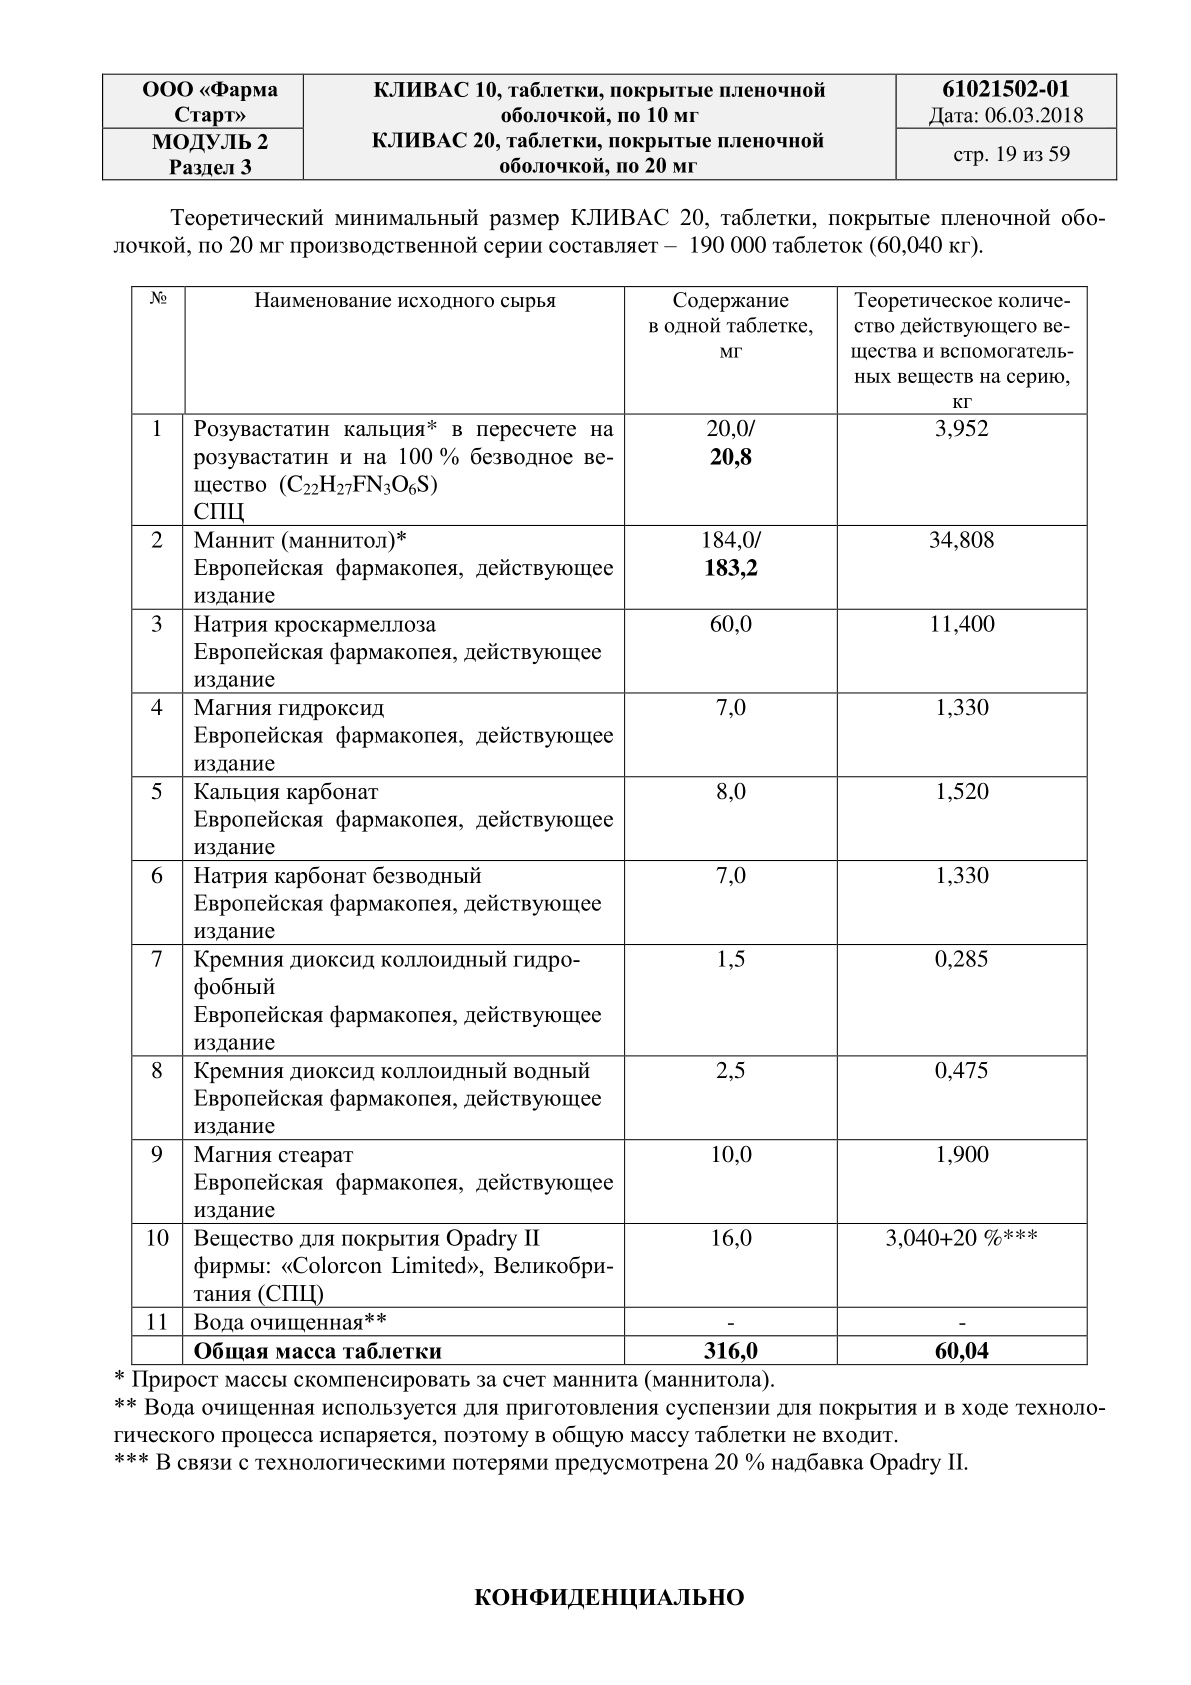full_lined: (129, 285, 1088, 1367)
merged_cells: (101, 72, 1118, 180)
